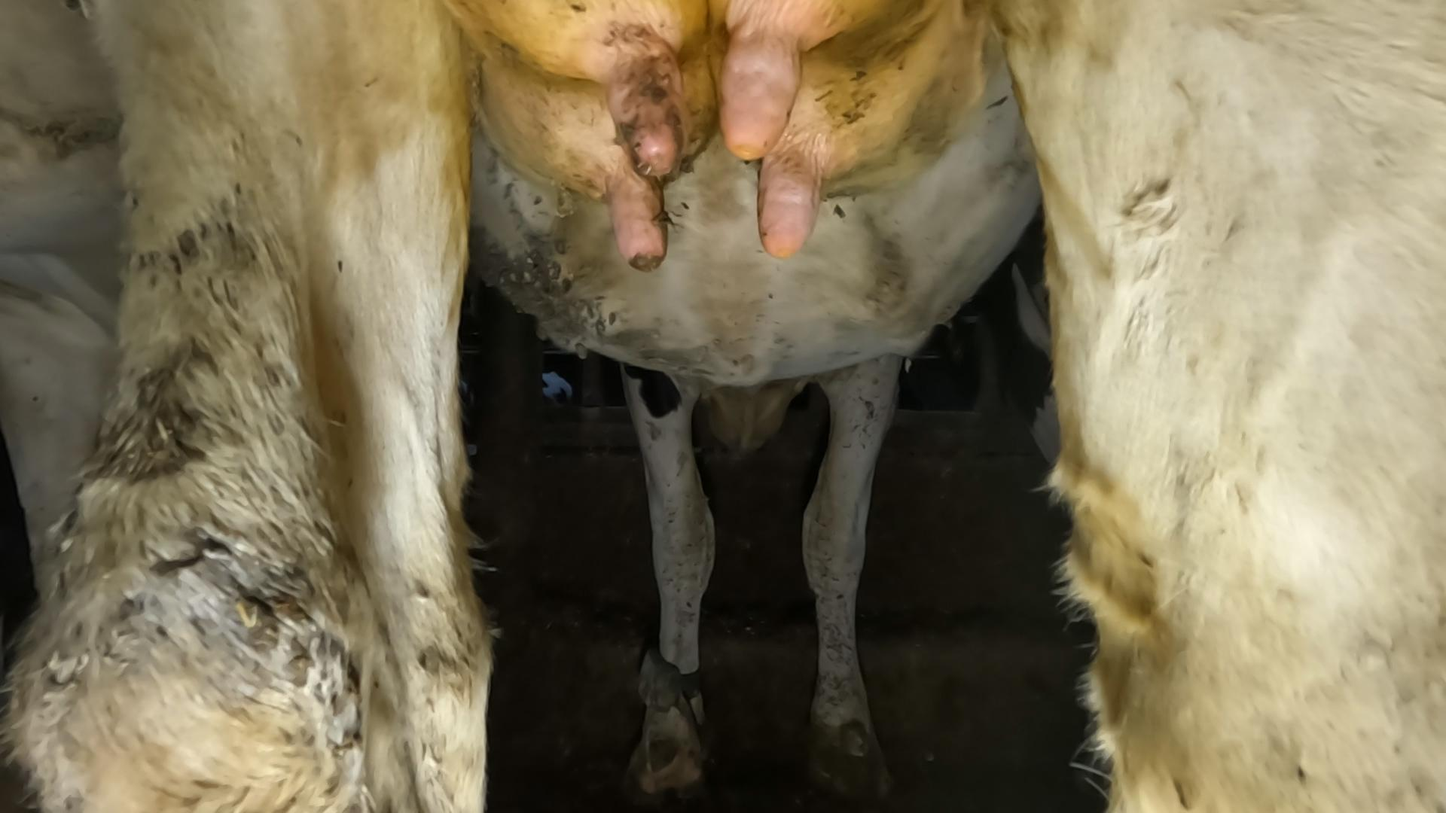Zitze: (700, 38, 830, 171), (595, 54, 701, 195), (743, 139, 844, 263), (608, 163, 680, 295)
